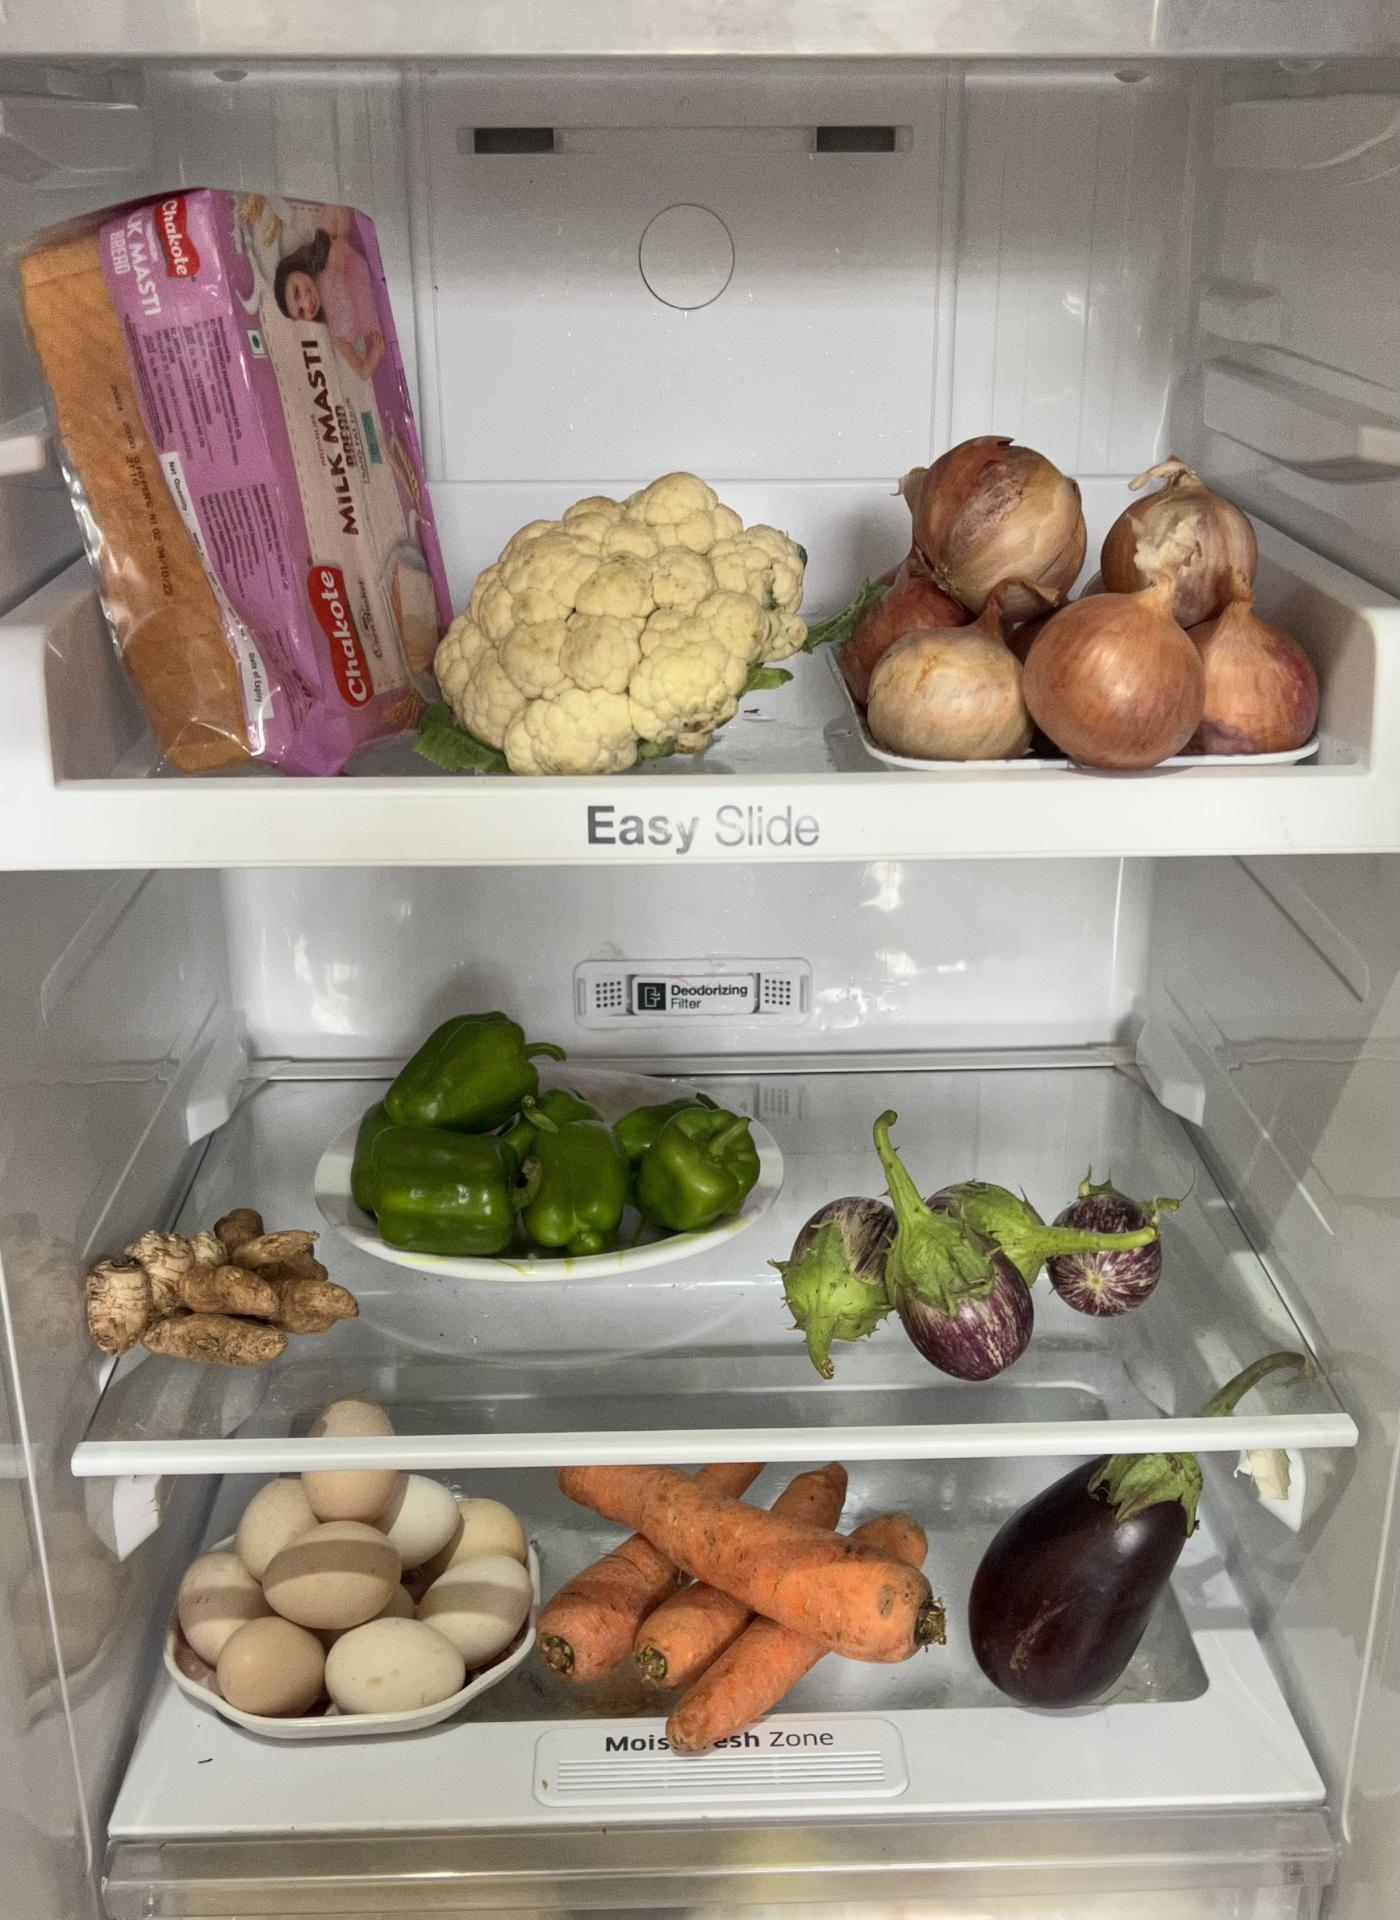bread: (0, 165, 428, 769)
brinjal: (775, 1154, 1170, 1383), (966, 1456, 1205, 1717)
capsicum: (343, 1027, 751, 1273)
carrots: (558, 1449, 962, 1740)
cauliflower: (441, 468, 805, 777)
egg: (155, 1473, 529, 1734)
ginger: (69, 1201, 362, 1391)
onion: (847, 434, 1324, 769)
